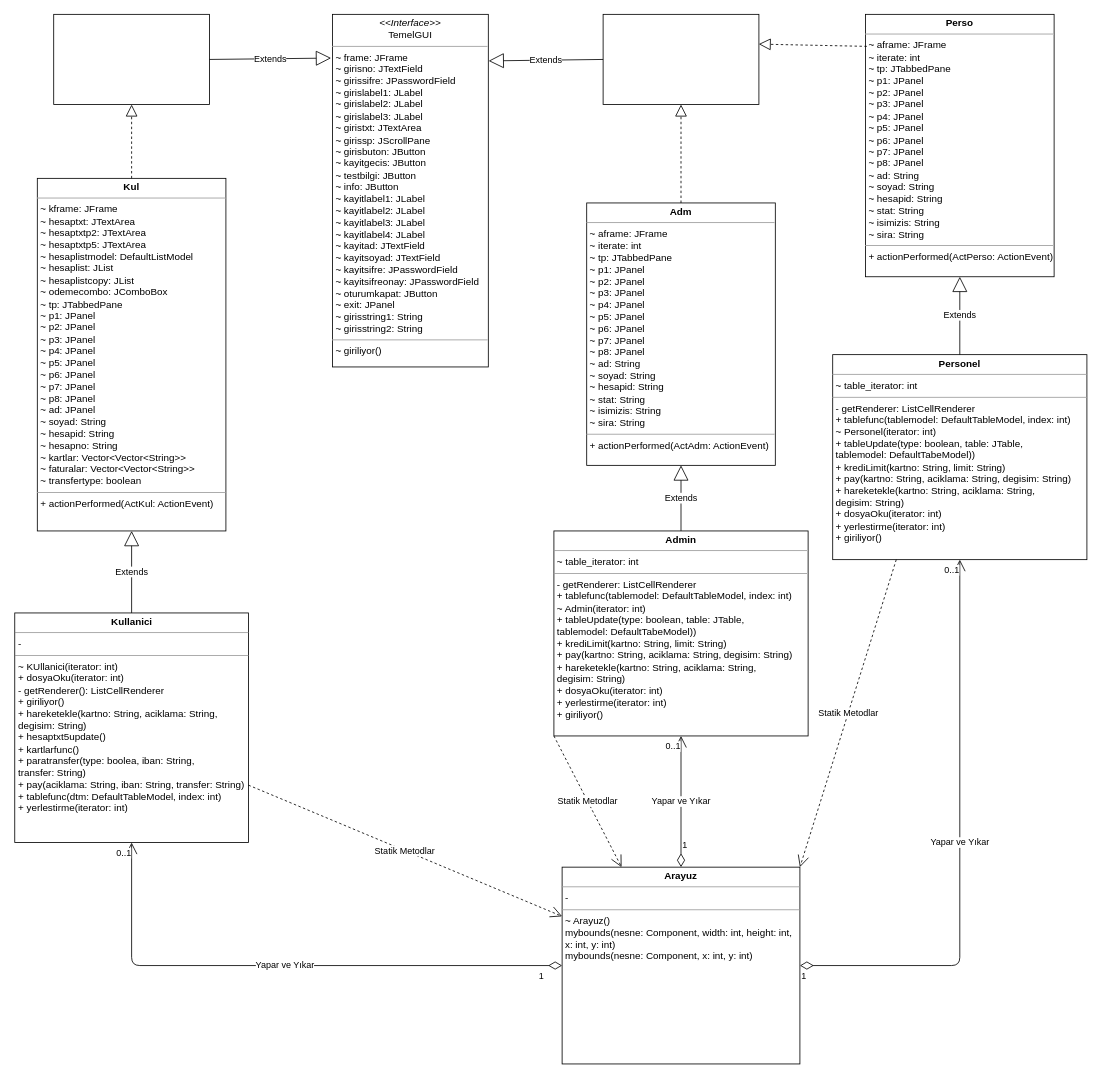
Some shapes in this 1101 by 1078 pixel diagram are drawn without their labels. Here are the shapes that lost their labels. From the top down, the centre of each, then its label:
At [131,59]: "<<Interface>> KulGUI ~ yerlestirme(iterator: int)".
At [680,59]: "<<Interface>> AdmGUI ~ yerlestirme(iterator: int)".
